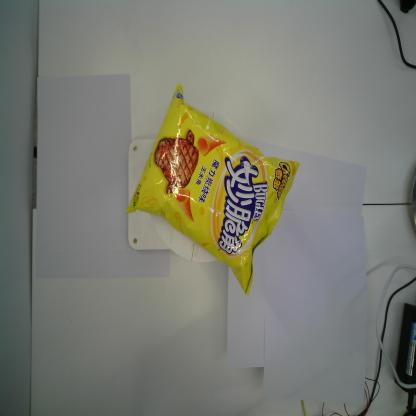Puffed Food: (122, 81, 301, 300)
